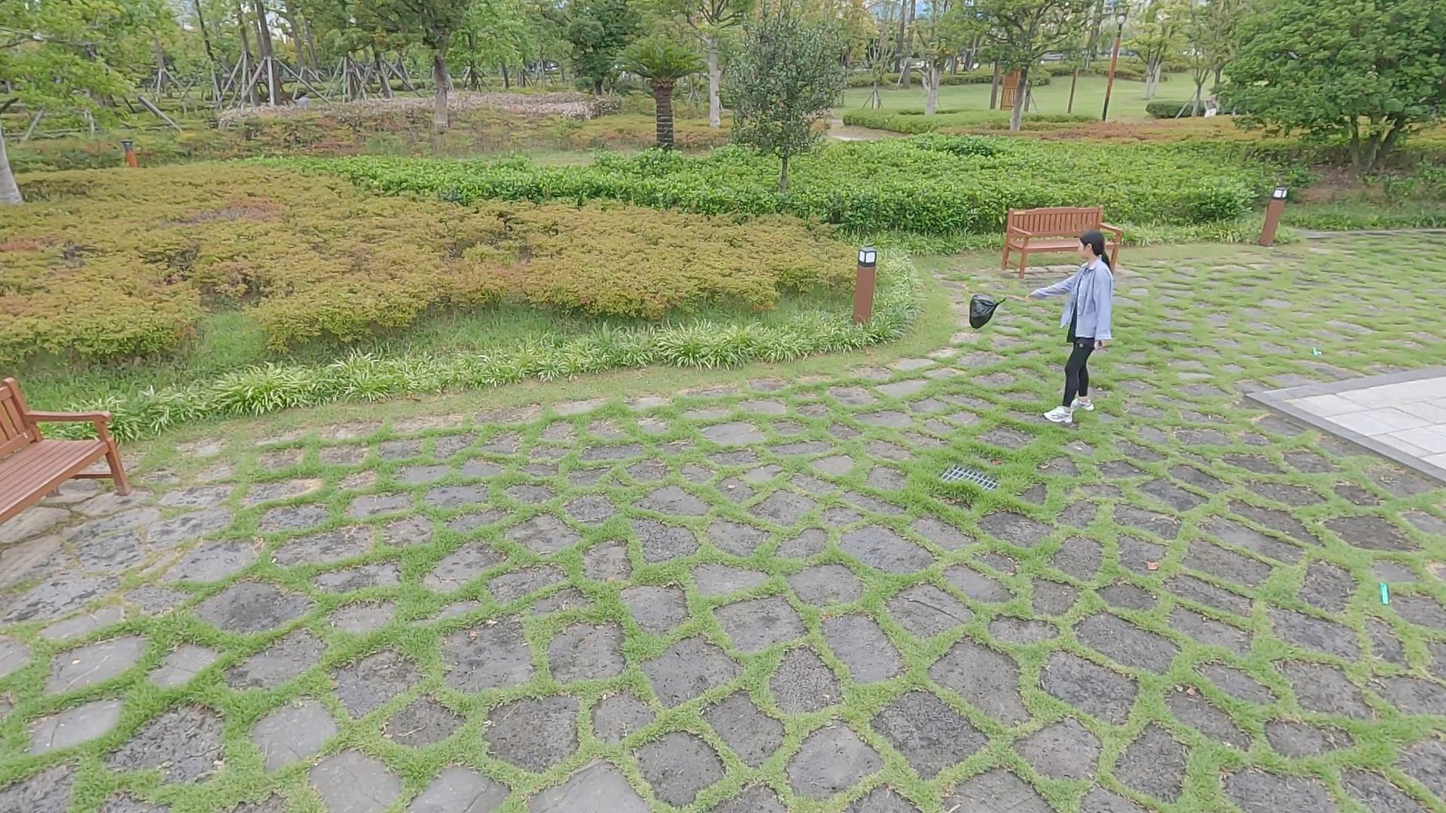person: (1009, 229, 1115, 421)
trash: (963, 291, 1008, 325)
